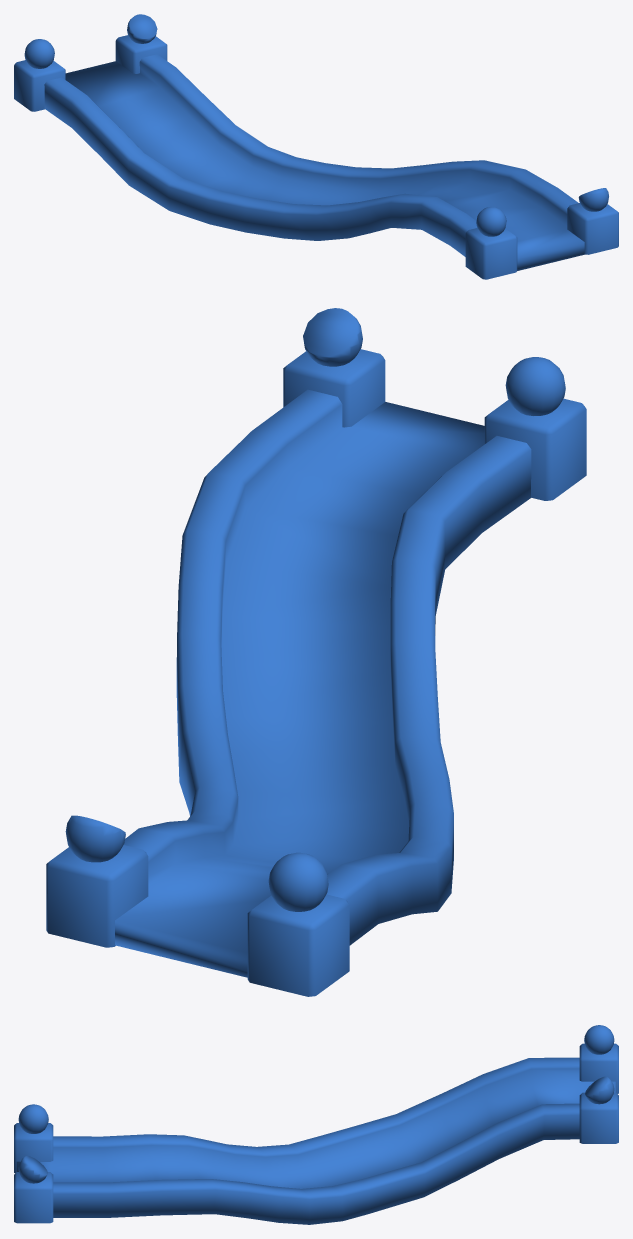
File: bridge_bot_02.fbx
3 views of the same model, one above another, from view 1: azimuth 30°, elevation 25°; view 2: azimuth 150°, elevation 25°; view 3: azimuth 270°, elevation 25° (orthographic). The views are drawn at different scales.
Visible parts, largest first — view 1: bridge_02; view 2: bridge_02; view 3: bridge_02.
Boxes of the visible parts, box(x1,y1,x2,y2) form: bridge_02: box(14, 14, 618, 279); bridge_02: box(46, 308, 586, 996); bridge_02: box(14, 1025, 618, 1224).
Size of the model in its own units: 3450 by 1164 by 6045.
